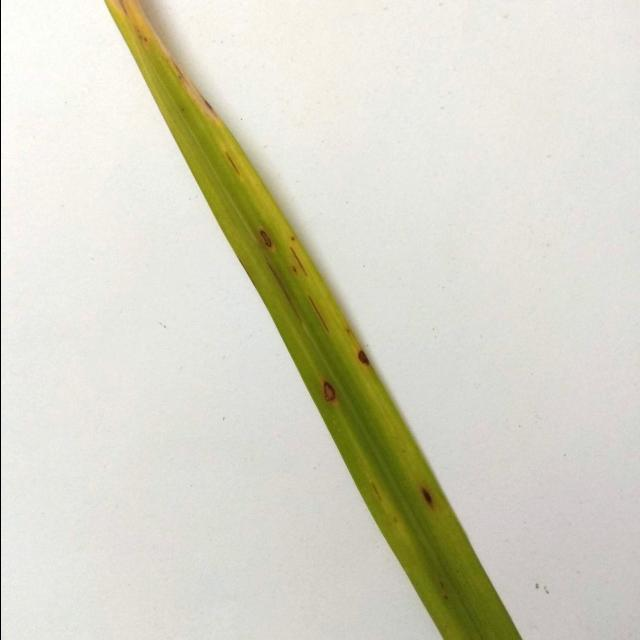Leaf blast: (82, 3, 543, 640)
